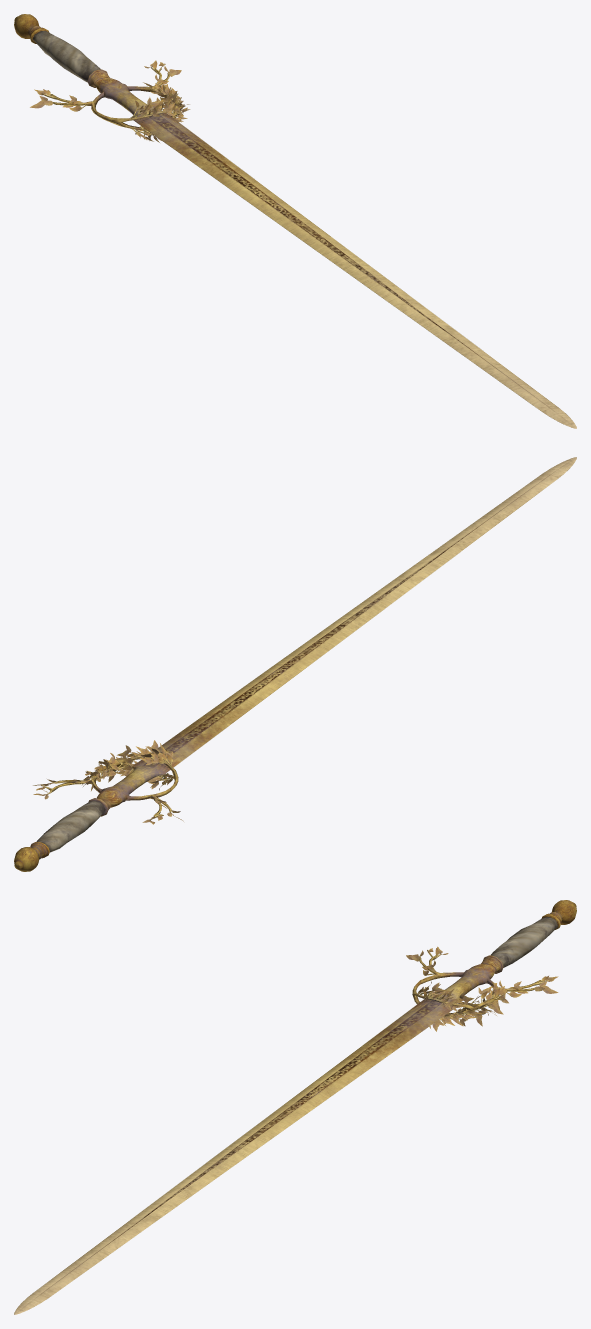
3 views of the same model, one above another, from view 1: azimuth 30°, elevation 25°; view 2: azimuth 150°, elevation 25°; view 3: azimuth 330°, elevation 25° (orthographic).
Parts seen in each view (by area): view 1: WP_A_0252; view 2: WP_A_0252; view 3: WP_A_0252.
Boxes of the visible parts, left/top/right/bottom form: WP_A_0252: left=14, top=14, right=576, bottom=428; WP_A_0252: left=14, top=457, right=576, bottom=871; WP_A_0252: left=14, top=900, right=576, bottom=1314.
Size of the model in its own units: 20.88 by 5.4 by 132.
Materials: 1 (1 with a texture image).
